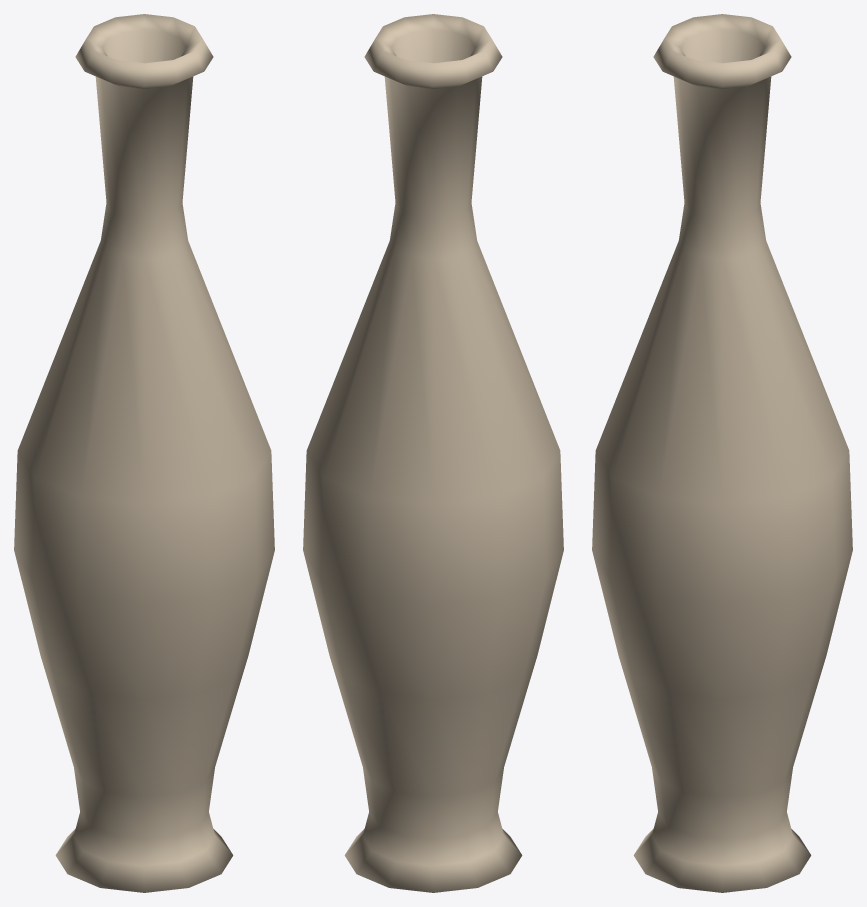
Rendered from vase-02.fbx.
The picture shows the model from 3 angles, left to right: view 1: azimuth 30°, elevation 25°; view 2: azimuth 150°, elevation 25°; view 3: azimuth 270°, elevation 25°; orthographic projection.
Visible parts, largest first — view 1: vase-02; view 2: vase-02; view 3: vase-02.
Part boxes in pixels (x1,y1,x2,y2): vase-02: (14, 14, 274, 892); vase-02: (303, 14, 563, 892); vase-02: (592, 14, 852, 892).
Bounding box in the file's own units: 293 × 1013 × 293.
